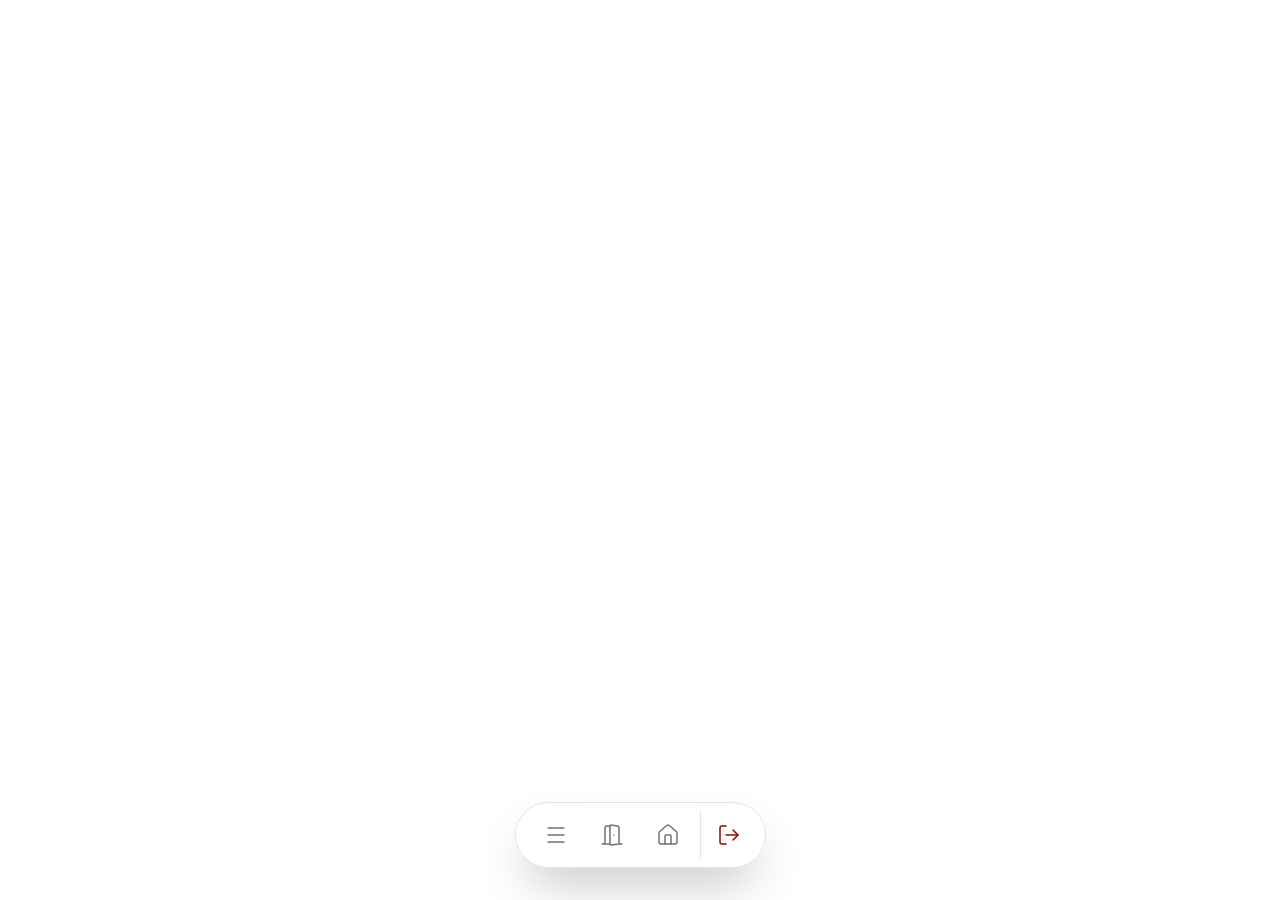
FloatingNav leave-table confirmation › warns that the table will be freed when leaving as the only participant with no order
What coordinates should you click on to do the following:
click the button titled "Abandonar mesa"
I would click on:
 (612, 835)
Its box is left=588, top=811, right=636, bottom=859.
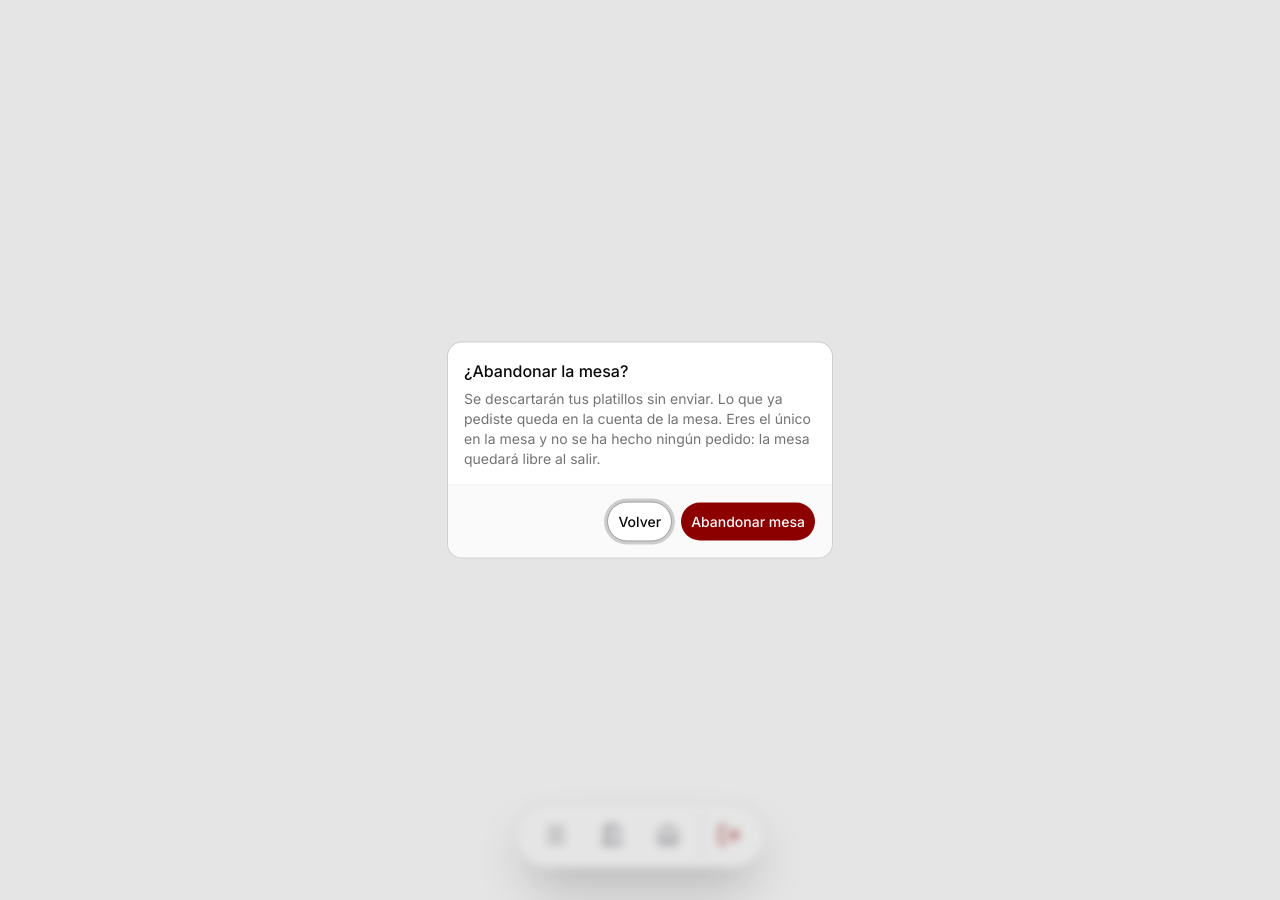
Check: the text "la mesa quedará libre al salir" is shown, box left=464, top=410, right=811, bottom=466
